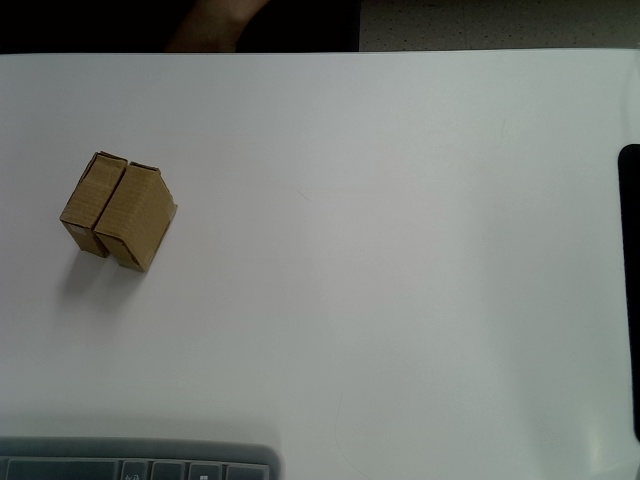normal: (94, 160, 177, 272), (60, 149, 127, 260)
